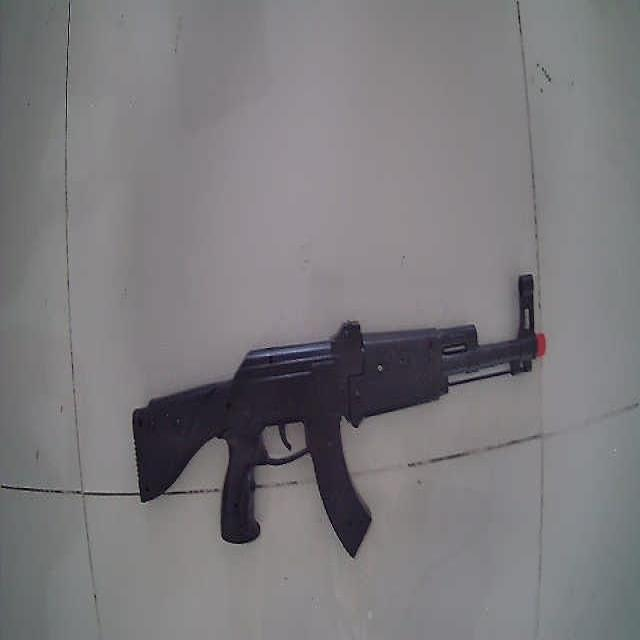rifle: (132, 274, 545, 558)
